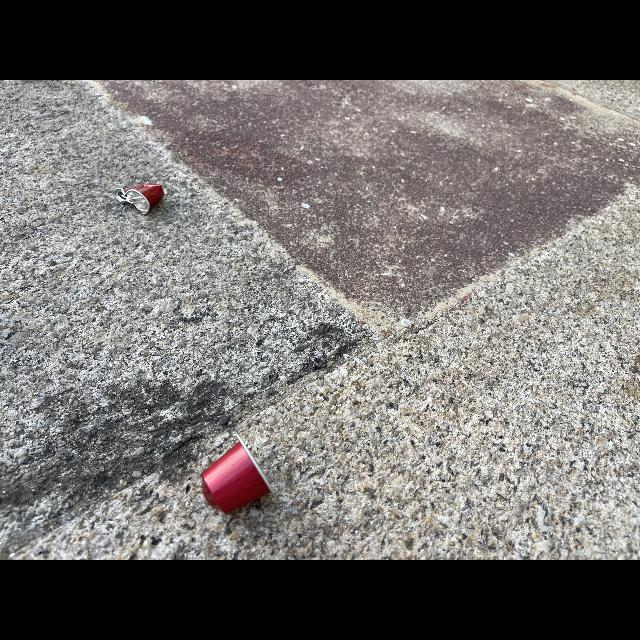damaged_capsule: (108, 174, 174, 218)
intact_capsule: (194, 436, 278, 524)
